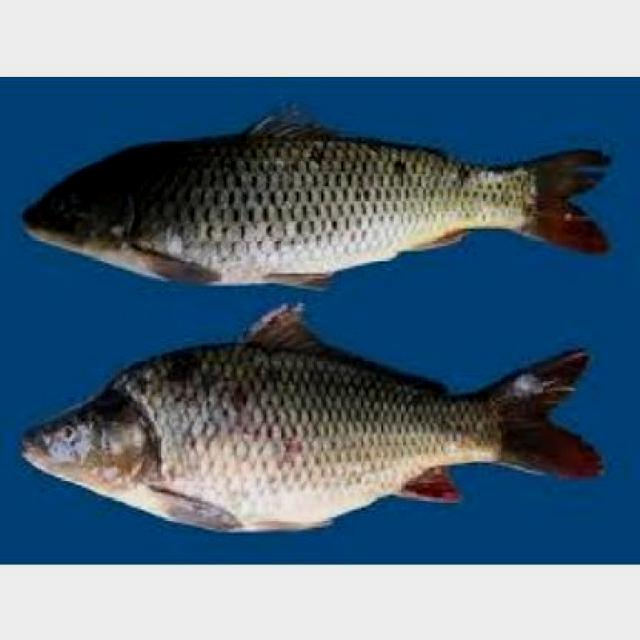ikan-mas: (24, 334, 588, 534), (30, 118, 604, 294)
